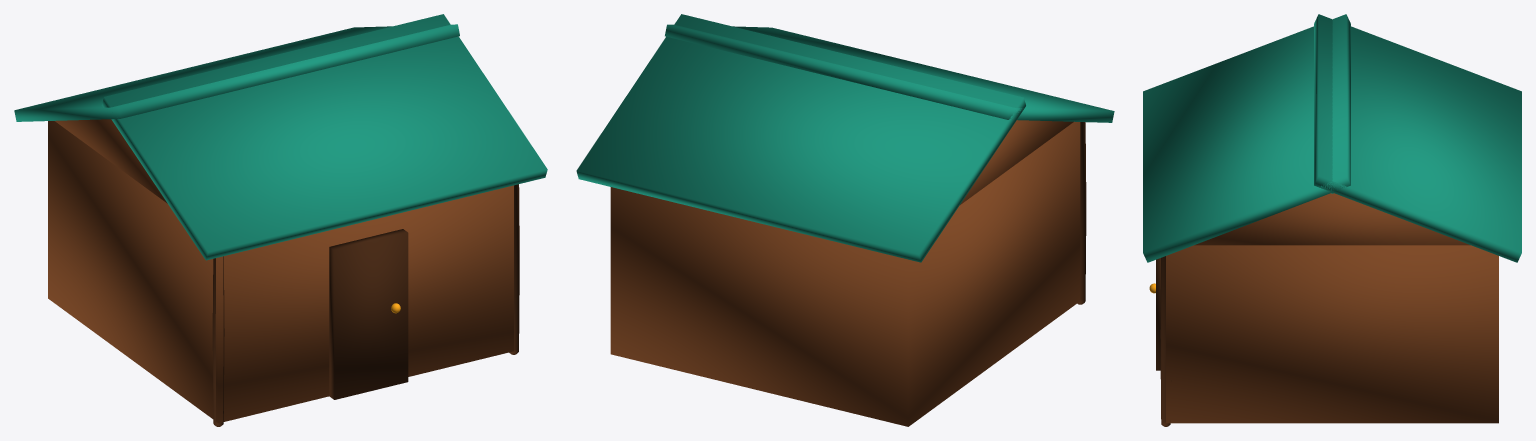
File: shed_l1.glb
3 renders of one model, left to right at view 1: azimuth 30°, elevation 25°; view 2: azimuth 150°, elevation 25°; view 3: azimuth 270°, elevation 25°, orthographic. The views are drawn at different scales.
Parts seen in each view (by area): view 1: ShedL1; view 2: ShedL1; view 3: ShedL1.
Boxes of the visible parts, x1,y1,x2,y2 form: ShedL1: (14,14,547,426); ShedL1: (576,14,1114,426); ShedL1: (1143,14,1521,426).
Bounding box in the file's own units: 2.3 × 1.73 × 2.28.
1 material, 1 textured.
